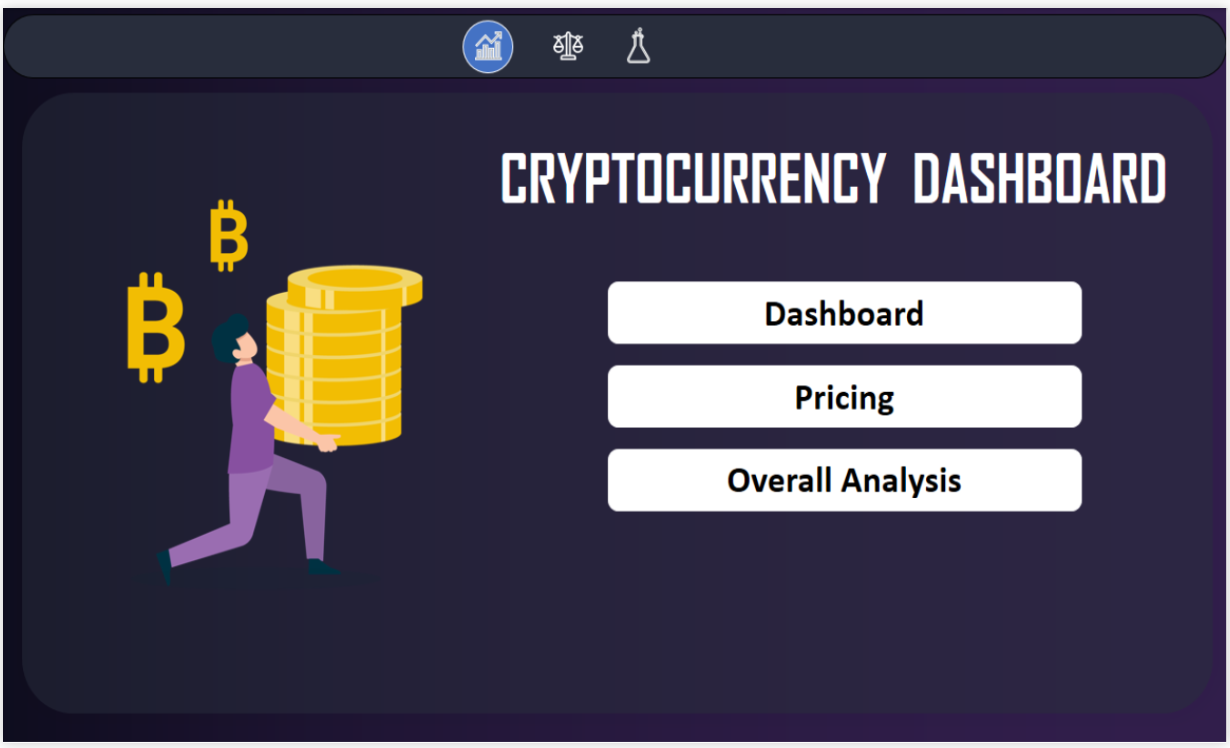

What the dashboard file says about the page in this screenshot:
{"tool":"powerbi","page":{"name":"Homepage","canvas":[1400,840],"ordinal":0},"visuals":[{"type":"shape","box":[518.6,11.4,67.1,64.3],"z":1},{"type":"shape","box":[611.4,11.4,67.1,64.3],"z":2},{"type":"shape","box":[700,11.4,67.1,64.3],"z":3},{"type":"shape","box":[688.6,310,548.6,72.9],"z":4},{"type":"shape","box":[688.6,408.6,548.6,78.6],"z":5},{"type":"shape","box":[688.6,502.9,548.6,78.6],"z":6}]}

Visuals, with their boxes on the page's 1400x840 design canvas (x1, y1, x2, y2). These are canvas units, not pixel positions in the 1230x748 screenshot, which may show the page scaled, cropped or inside an application window:
shape: 519/11/586/76
shape: 611/11/678/76
shape: 700/11/767/76
shape: 689/310/1237/383
shape: 689/409/1237/487
shape: 689/503/1237/582
